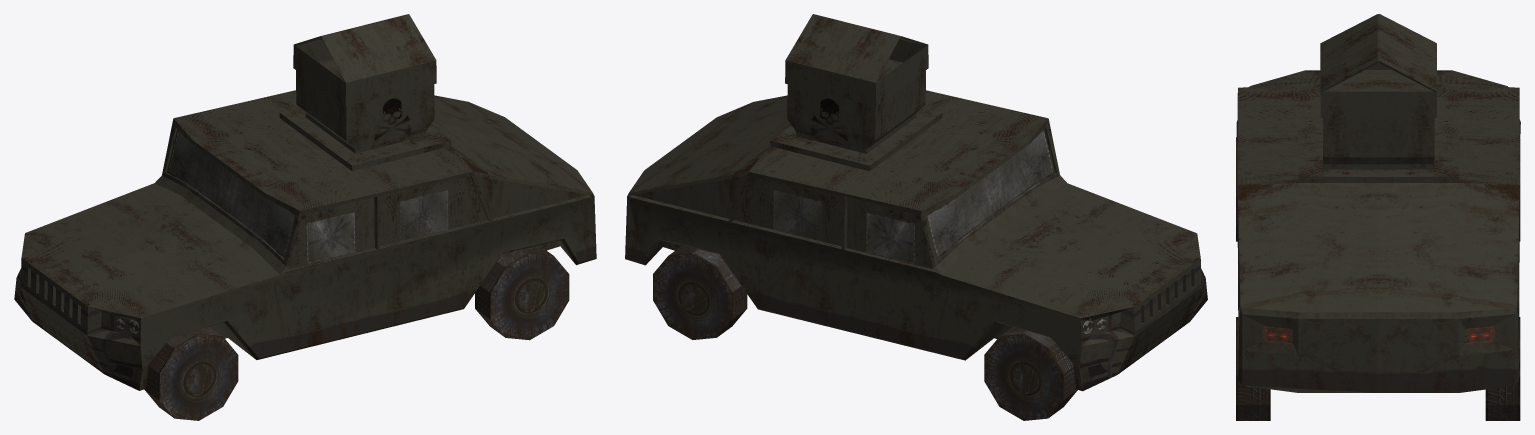
Rendered from EngincanZırhlıJipCalısma4.fbx.
3 renders of one model, left to right at view 1: azimuth 30°, elevation 25°; view 2: azimuth 150°, elevation 25°; view 3: azimuth 270°, elevation 25°, orthographic. The views are drawn at different scales.
Parts seen in each view (by area): view 1: BezierCurve, Cylinder.003; view 2: BezierCurve, Cylinder.003; view 3: BezierCurve, Cylinder.003.
Part boxes in pixels (x1,y1,x2,y2): BezierCurve: (14,14,596,390); Cylinder.003: (144,245,569,420); BezierCurve: (625,14,1207,391); Cylinder.003: (653,245,1077,420); BezierCurve: (1236,14,1520,392); Cylinder.003: (1236,137,1520,420).
Bounding box in the file's own units: 419 × 239 × 189.
